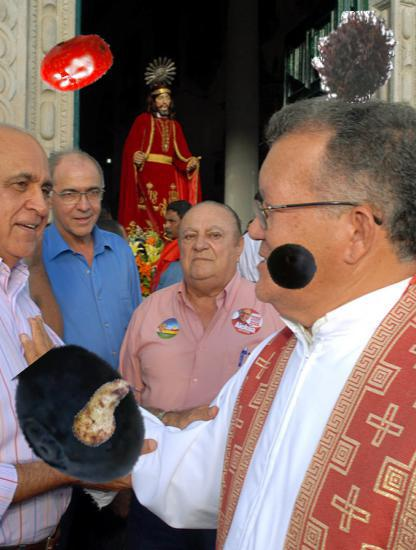Blueberry: (7, 345, 155, 493)
Pear: (69, 375, 145, 451)
Plum: (266, 241, 317, 292)
Rambutan: (309, 11, 402, 104)
Tomato: (36, 25, 115, 104)
